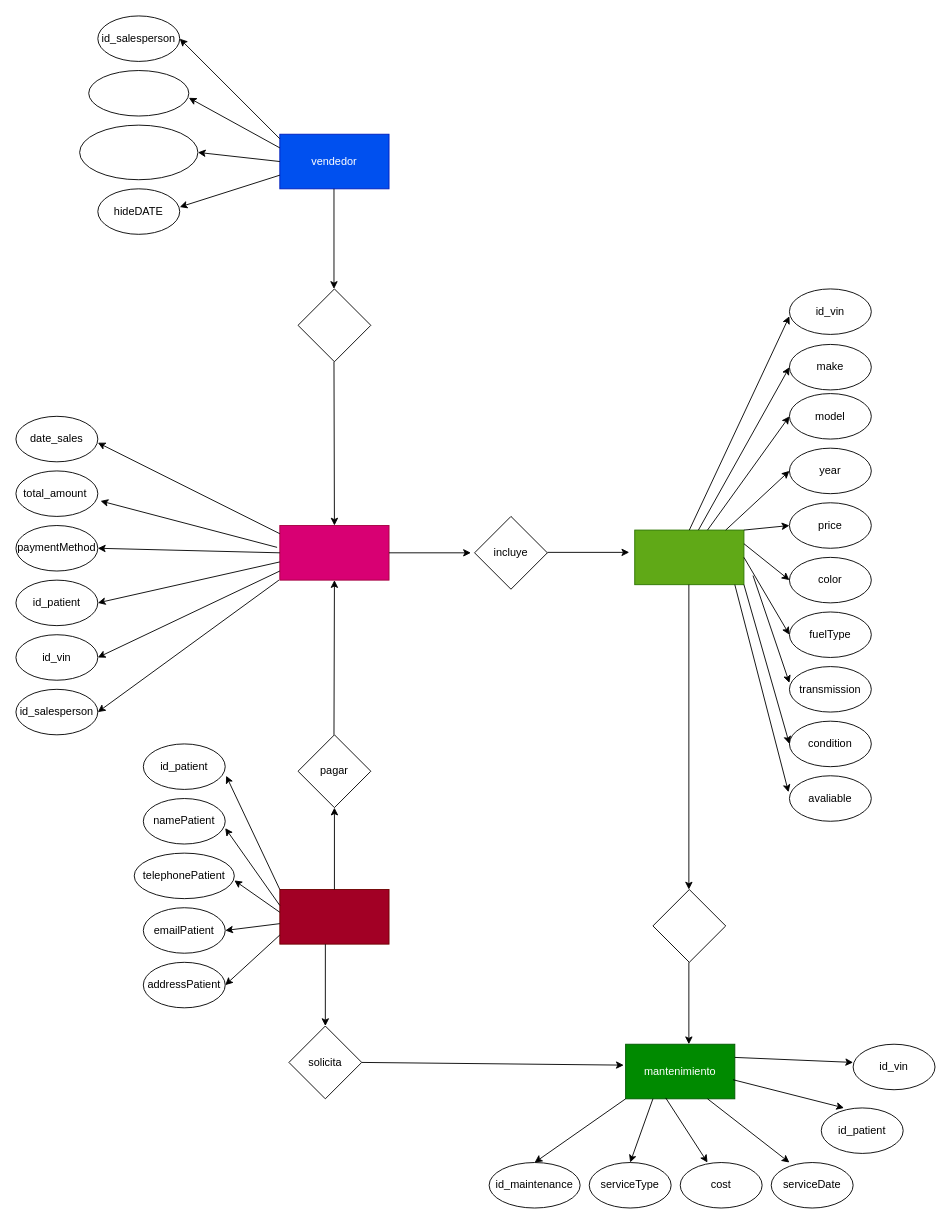
Some shapes in this 951 by 1224 pixel diagram are drawn without their labels. Each missing label, with the centre of its shape:
"atiende" belongs at (334,325).
"cliente" belongs at (334,916).
"nameSalesperson" belongs at (138,93).
"recibe" belongs at (689,925).
"telephoneSalesperson" belongs at (138,152).
"vehiculo" belongs at (689,557).
"venta" belongs at (334,552).
